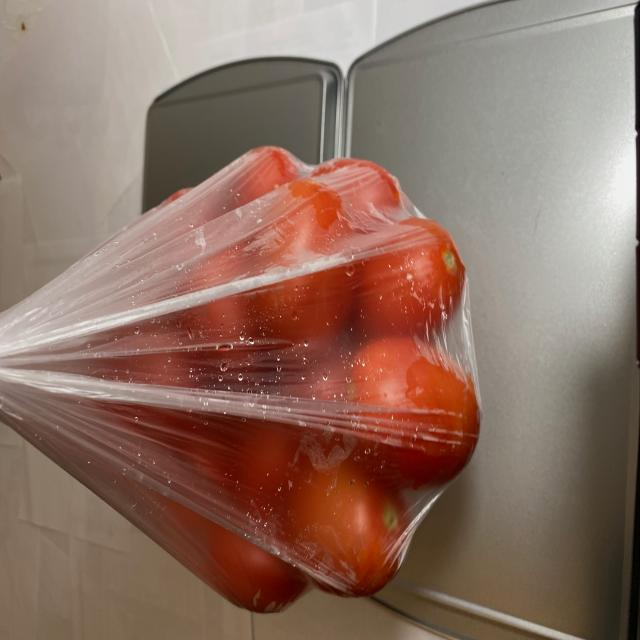tomato: (117, 150, 488, 606)
